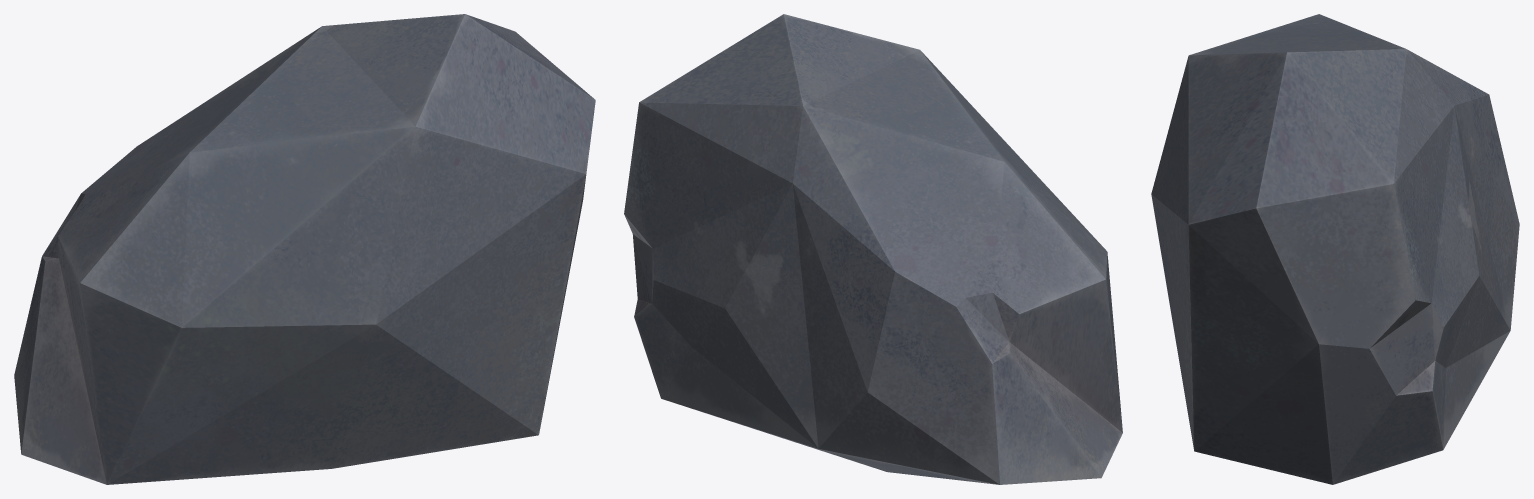
Rendered from Rocas_zona2_4.fbx.
3 views of the same model, side by side, from view 1: azimuth 30°, elevation 25°; view 2: azimuth 150°, elevation 25°; view 3: azimuth 270°, elevation 25° (orthographic). The views are drawn at different scales.
Visible parts, largest first — view 1: stylized_rock_35; view 2: stylized_rock_35; view 3: stylized_rock_35.
Part boxes in pixels (x1,y1,x2,y2): stylized_rock_35: (14, 14, 595, 484); stylized_rock_35: (624, 14, 1122, 484); stylized_rock_35: (1151, 14, 1519, 484).
Bounding box in the file's own units: 133 × 103 × 81.16.
